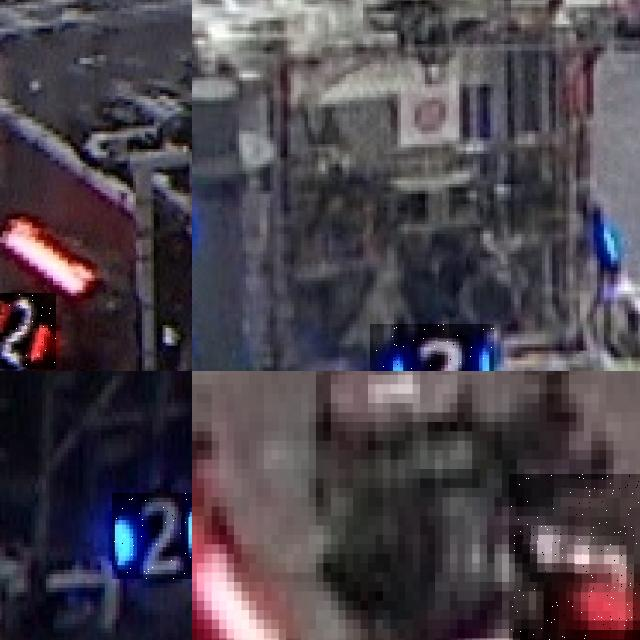B2: (112, 493, 192, 578), (370, 324, 494, 371)
R2: (0, 292, 56, 369)
R3: (509, 473, 640, 640)
